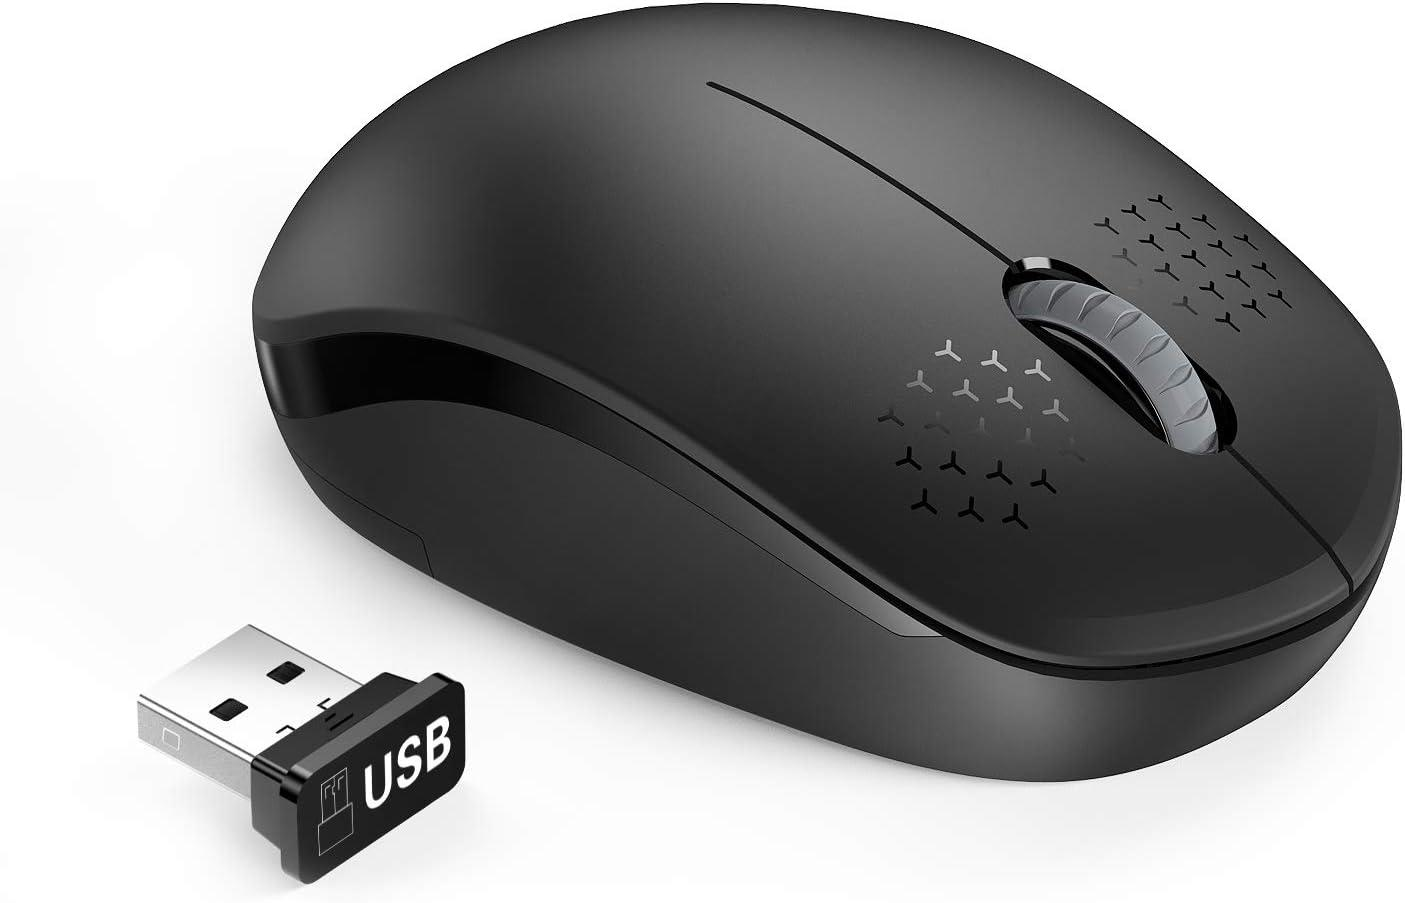computer mouse: (250, 2, 1405, 786)
